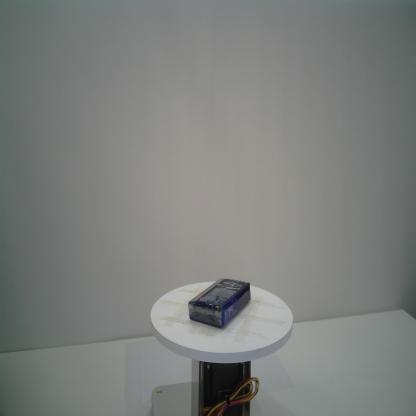Gum: (188, 277, 252, 329)
